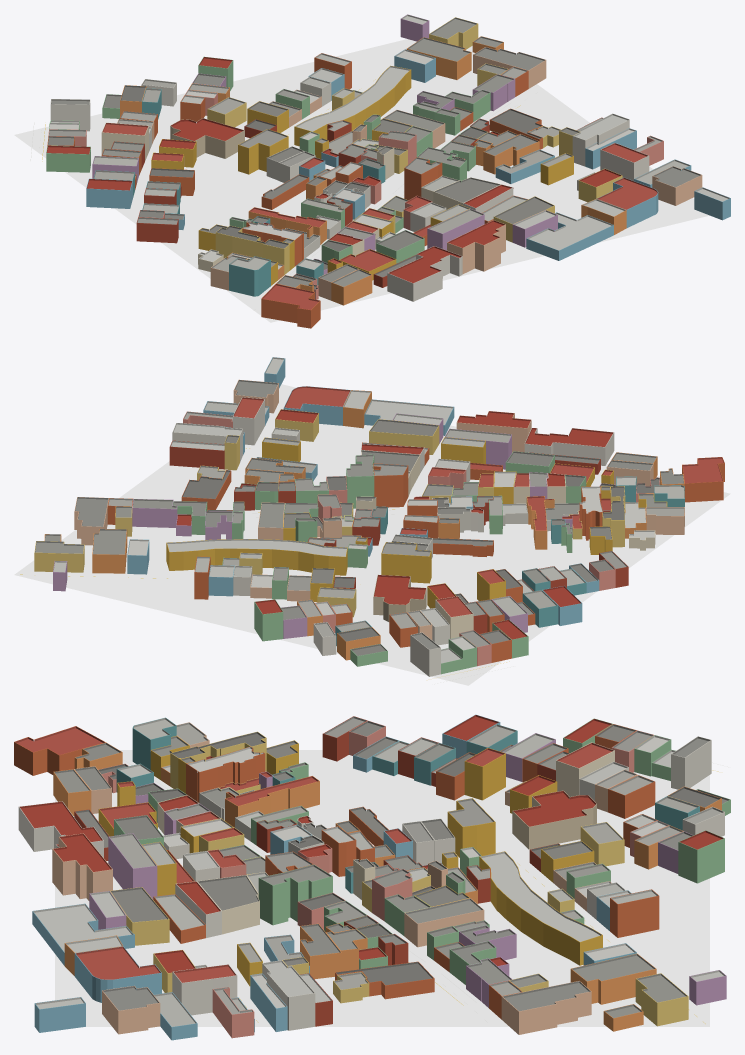
3 views of the same model, one above another, from view 1: azimuth 30°, elevation 25°; view 2: azimuth 150°, elevation 25°; view 3: azimuth 270°, elevation 25° (orthographic). The views are drawn at different scales.
Parts seen in each view (by area): view 1: walls, roofs, plaza, pavers; view 2: walls, roofs, plaza; view 3: walls, roofs, plaza, pavers.
Part boxes in pixels (<box>): walls: <box>46,19,730,328</box>; roofs: <box>46,14,730,310</box>; plaza: <box>14,39,709,322</box>; pavers: <box>603,198,694,241</box>; walls: <box>34,358,724,676</box>; roofs: <box>34,357,724,663</box>; plaza: <box>14,384,730,685</box>; walls: <box>14,722,730,1040</box>; roofs: <box>14,714,730,1027</box>; plaza: <box>55,750,709,1026</box>; pavers: <box>55,957,109,1026</box>.
Size of what is drawn, in the model's own units: 273 by 16.75 by 274.
